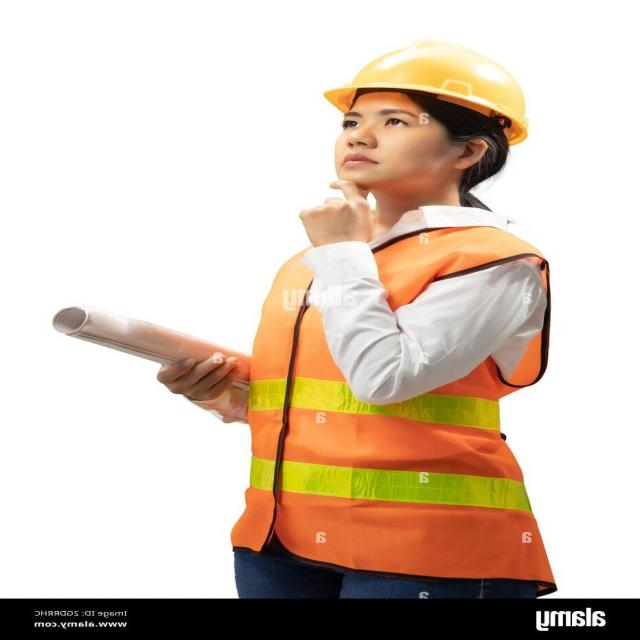Reflective-Jacket: (224, 224, 550, 580)
Safety-Helmet: (319, 34, 535, 144)
